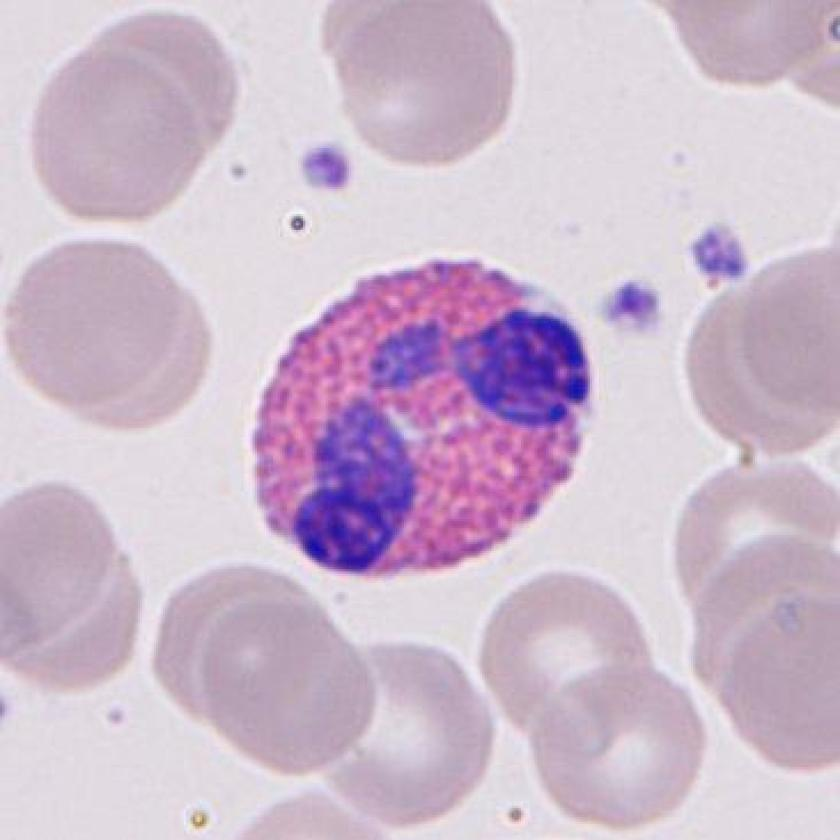eosinophil: (238, 245, 610, 591)
